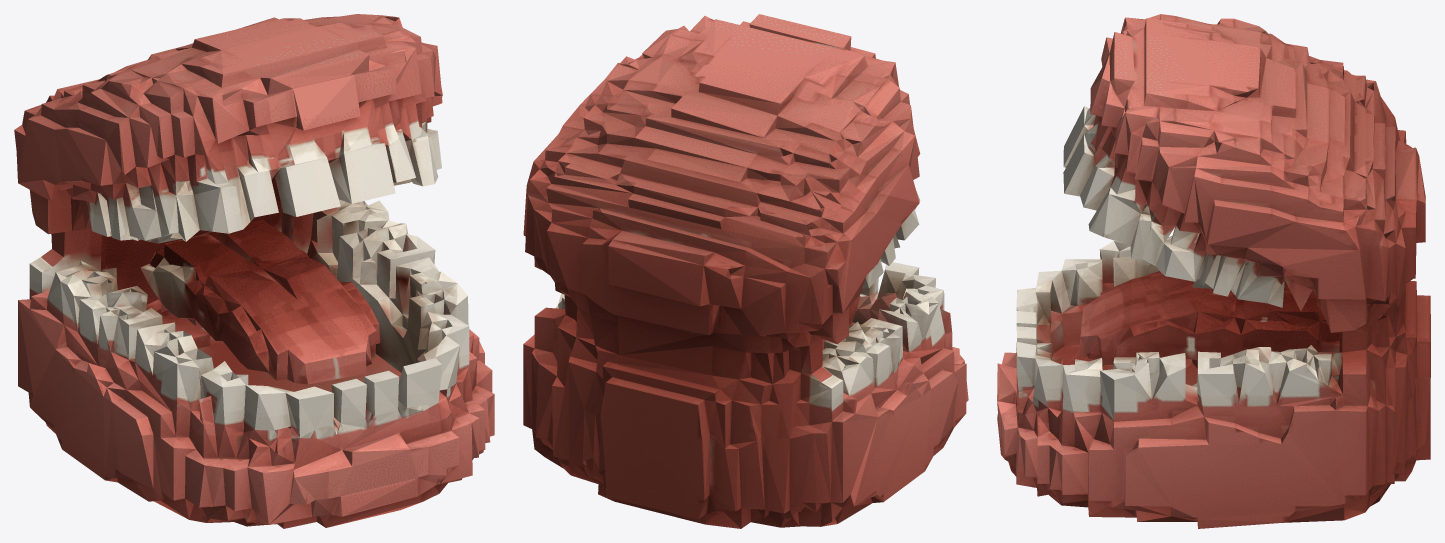
3 views of the same model, side by side, from view 1: azimuth 30°, elevation 25°; view 2: azimuth 150°, elevation 25°; view 3: azimuth 270°, elevation 25° (orthographic). The views are drawn at different scales.
Visible parts, largest first — view 1: node_0; view 2: node_0; view 3: node_0.
Boxes of the visible parts, box(x1,y1,x2,y2) form: node_0: box(14, 14, 494, 528); node_0: box(523, 14, 968, 528); node_0: box(997, 14, 1430, 528).
Bounding box in the file's own units: 0.74 × 0.8412 × 0.839.
1 material, 1 textured.
